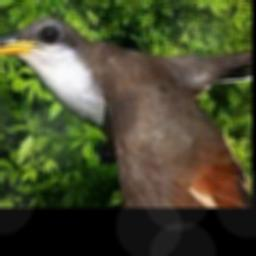Cuckoo: (0, 17, 251, 206)
